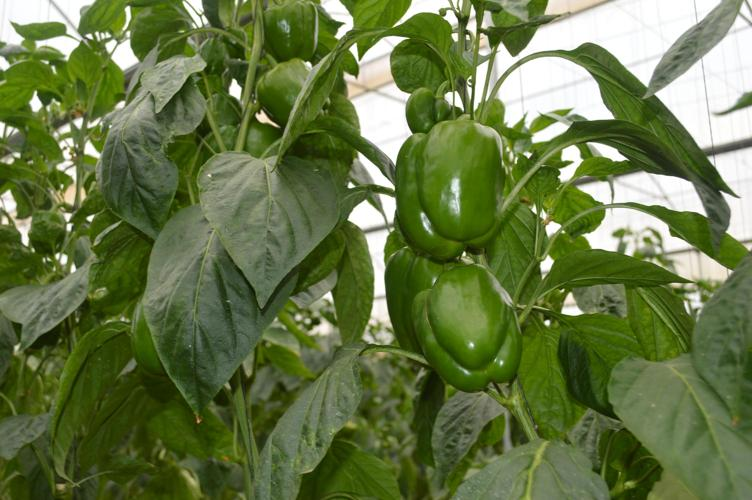BellPepper: (391, 119, 512, 262), (417, 260, 518, 392), (387, 254, 445, 357), (248, 57, 314, 129), (202, 122, 282, 163), (261, 9, 325, 58), (128, 306, 171, 376), (404, 88, 451, 129)
